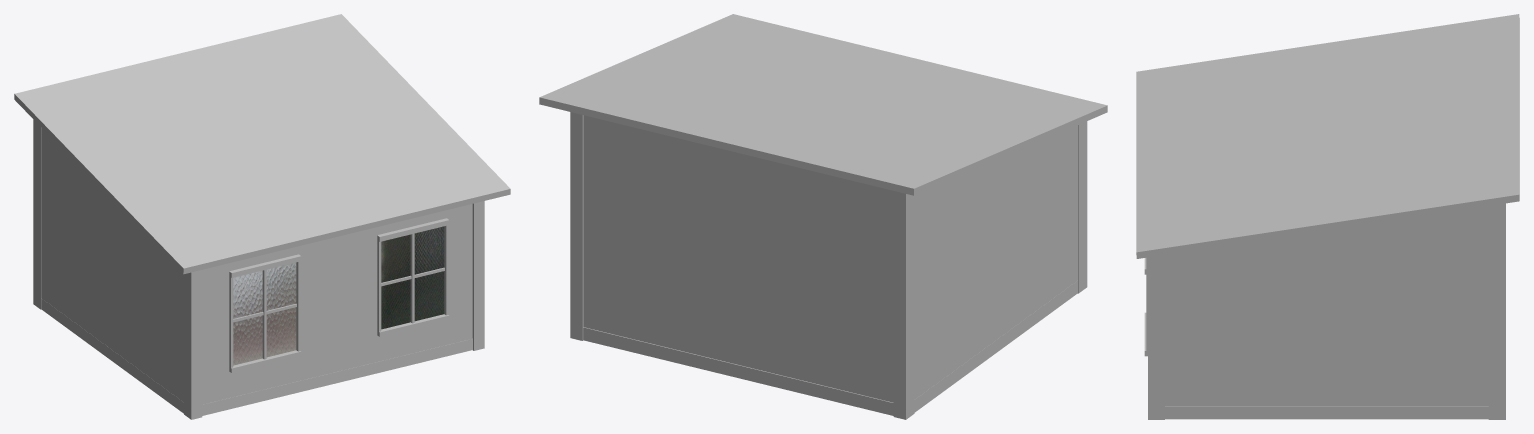
The model's file is apart_poor_03a.fbx.
The picture shows the model from 3 angles, left to right: view 1: azimuth 30°, elevation 25°; view 2: azimuth 150°, elevation 25°; view 3: azimuth 270°, elevation 25°; orthographic projection. The views are drawn at different scales.
Visible parts, largest first — view 1: apart_poor_03a; view 2: apart_poor_03a; view 3: apart_poor_03a.
Part boxes in pixels (left/top/right/bottom): apart_poor_03a: left=14, top=14, right=510, bottom=419; apart_poor_03a: left=539, top=14, right=1107, bottom=419; apart_poor_03a: left=1136, top=14, right=1519, bottom=419.
Size of the model in its own units: 4.46 by 2.73 by 4.
